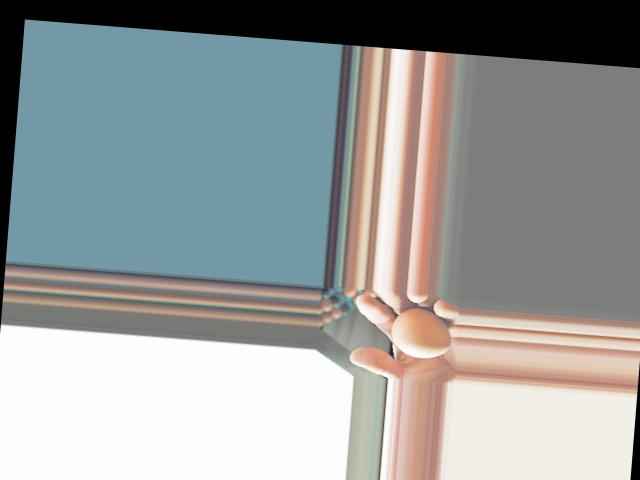egg: (389, 304, 455, 359)
